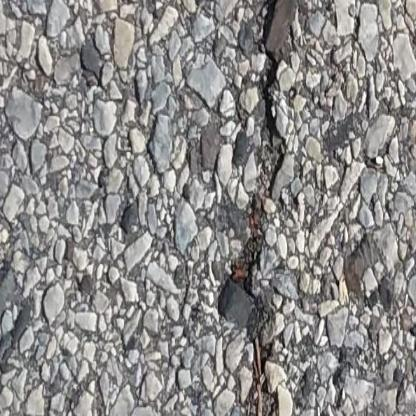Cracks: (216, 0, 311, 416)
